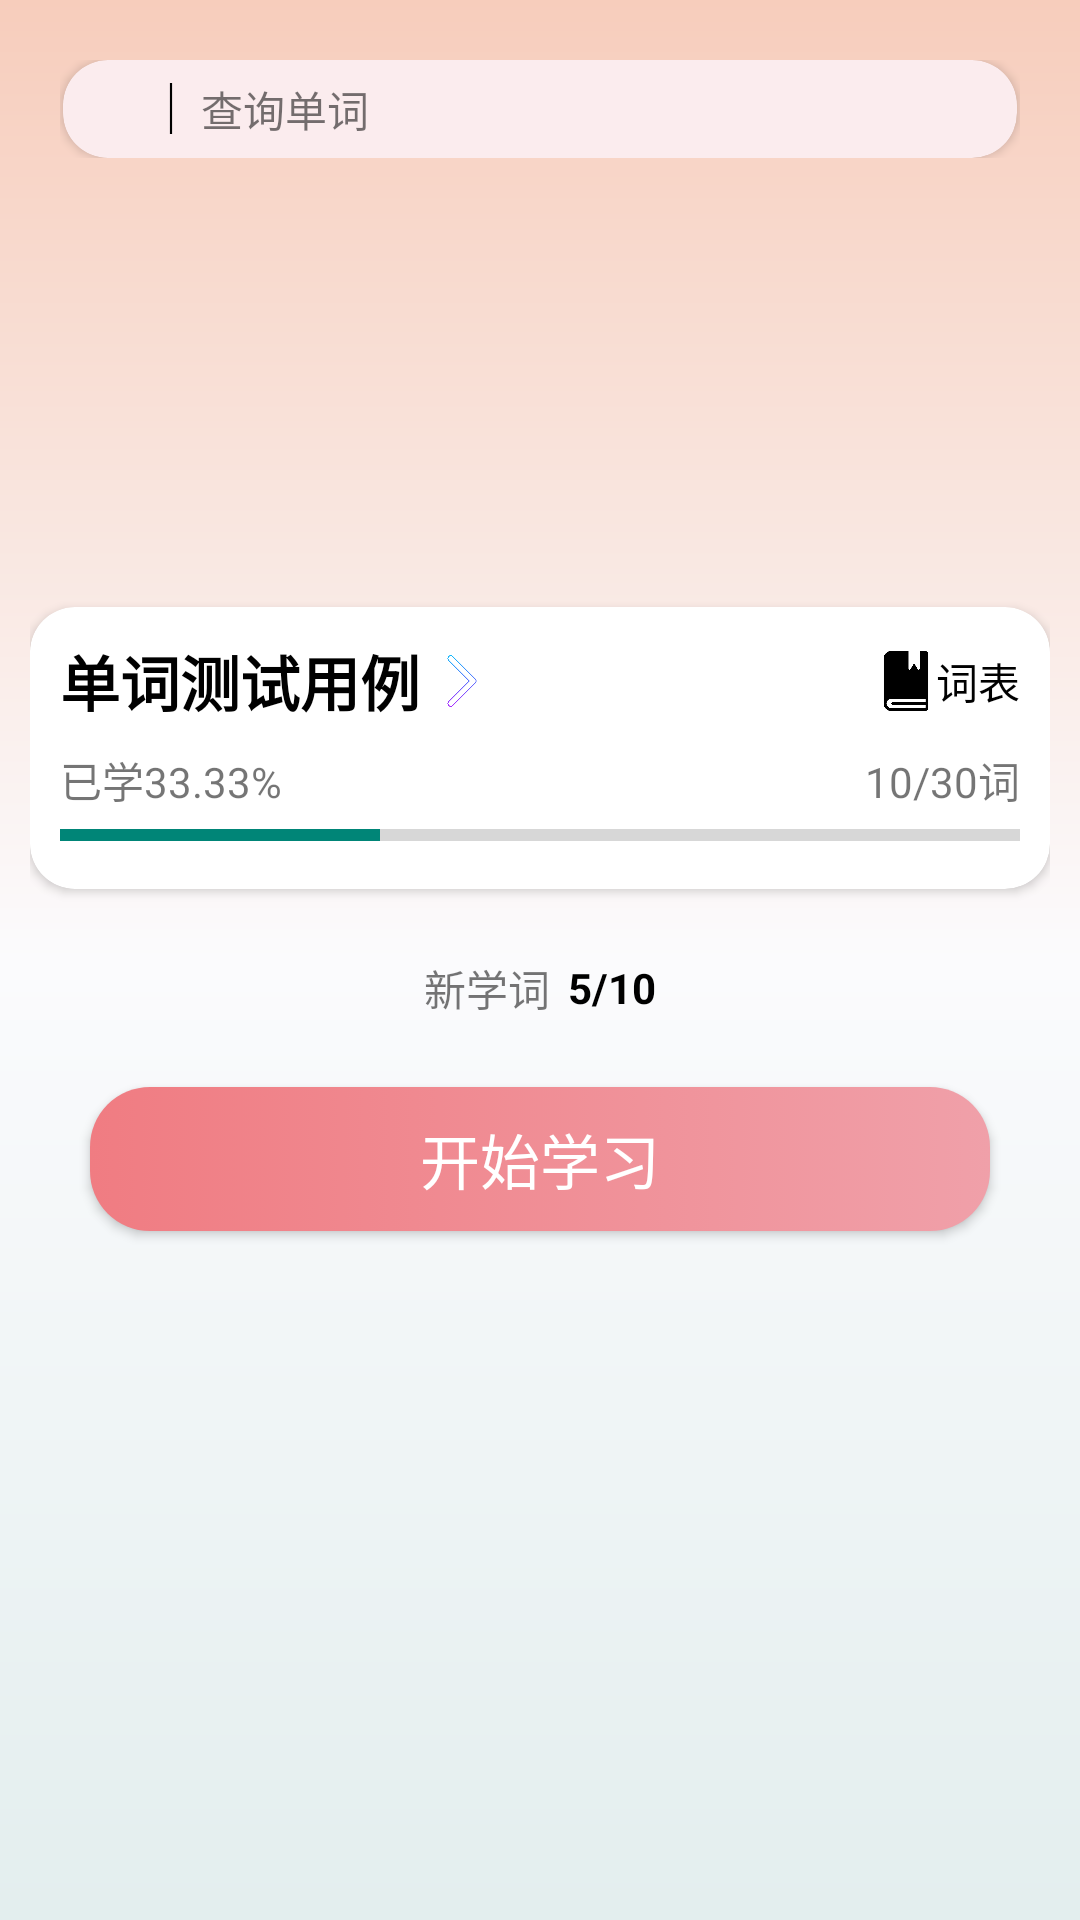

Where to tap for icons on this 1080 × 1920 app screen, as point (x, y):
book: point (906, 681)
next fasion: point (462, 681)
